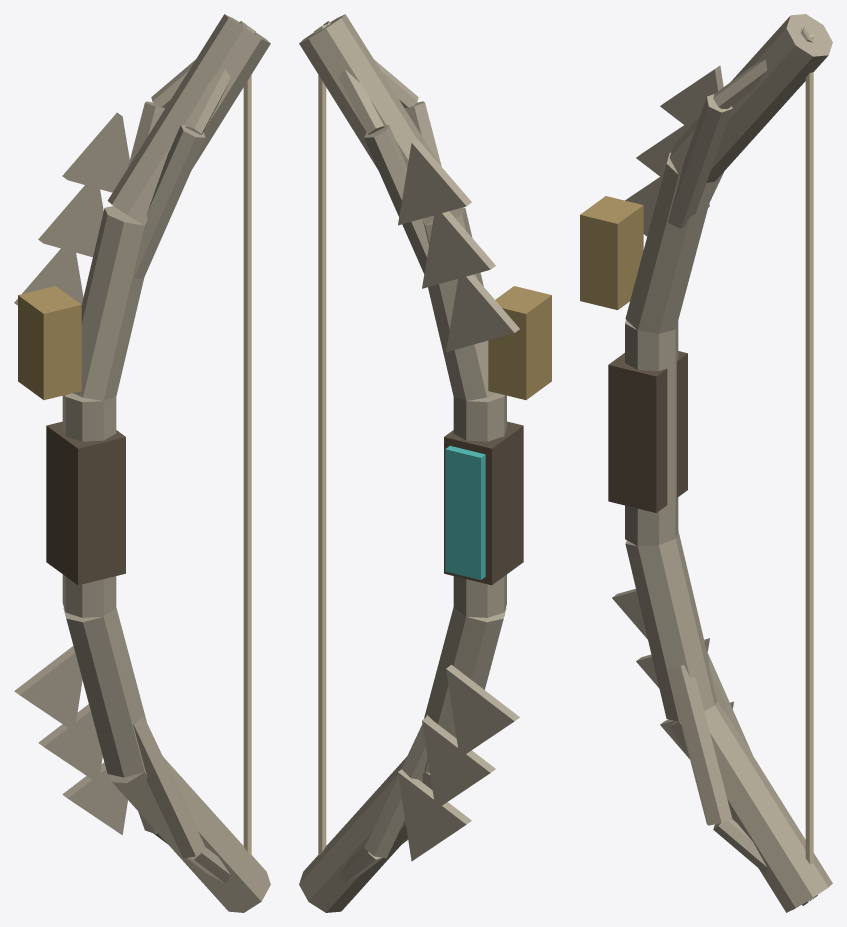
Rendered from Arsenal_EgretSplitBow.fbx.
3 views of the same model, side by side, from view 1: azimuth 30°, elevation 25°; view 2: azimuth 150°, elevation 25°; view 3: azimuth 330°, elevation 25° (orthographic).
Parts seen in each view (by area): view 1: Arsenal_EgretSplitBow; view 2: Arsenal_EgretSplitBow; view 3: Arsenal_EgretSplitBow.
Boxes of the visible parts, box(x1,y1,x2,y2) form: Arsenal_EgretSplitBow: box(14, 14, 270, 912); Arsenal_EgretSplitBow: box(299, 14, 551, 912); Arsenal_EgretSplitBow: box(580, 14, 832, 912).
Size of the model in its own units: 0.3432 by 1.24 by 0.1239.
